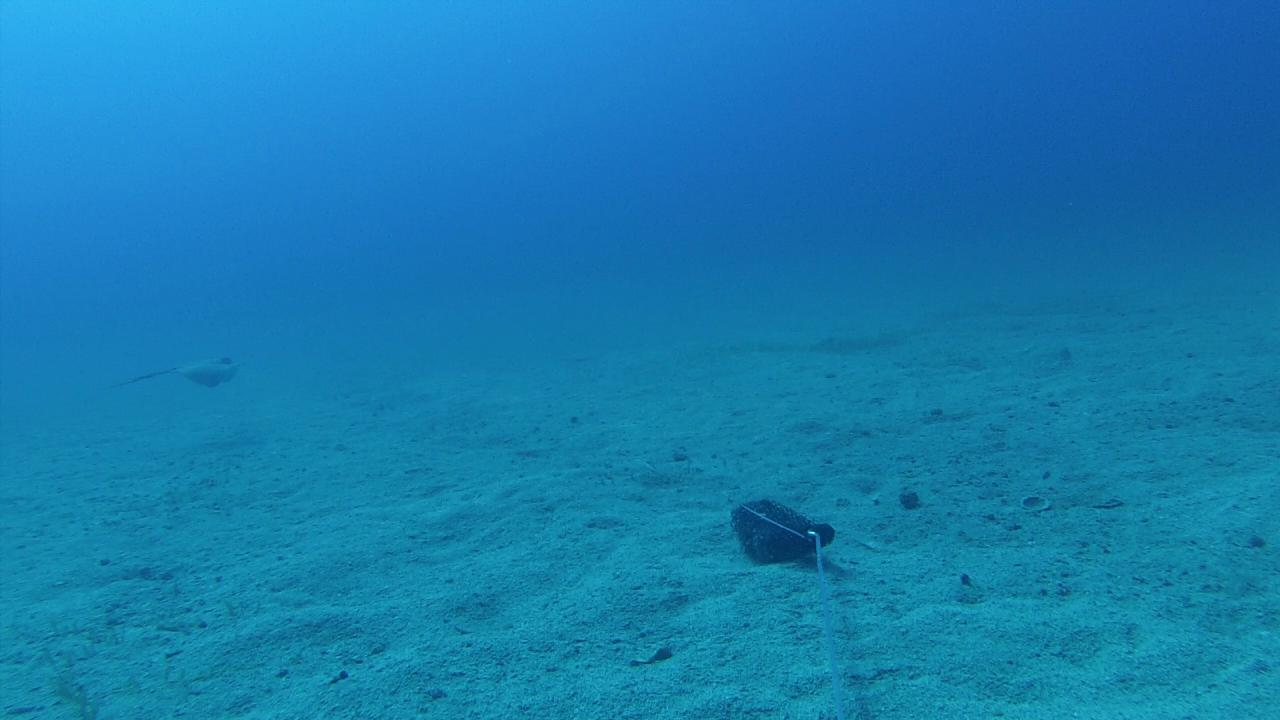dasyatis: (105, 351, 250, 388)
